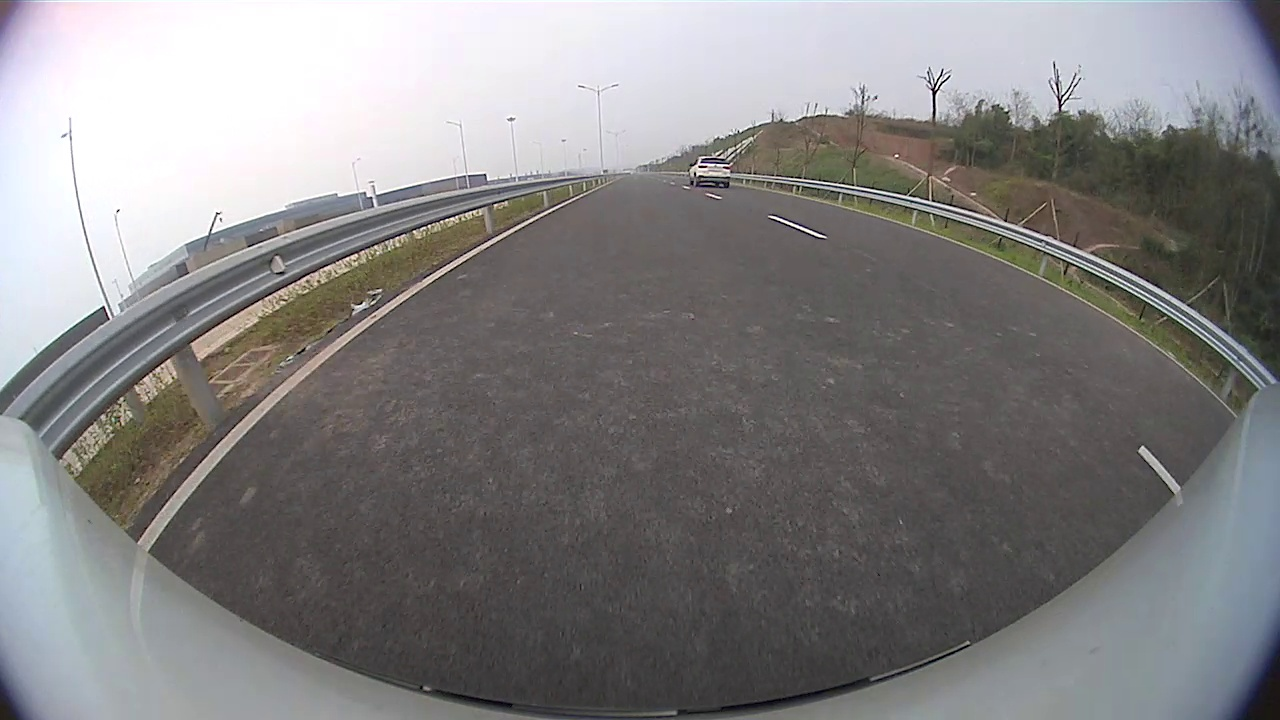car: (687, 155, 731, 189)
